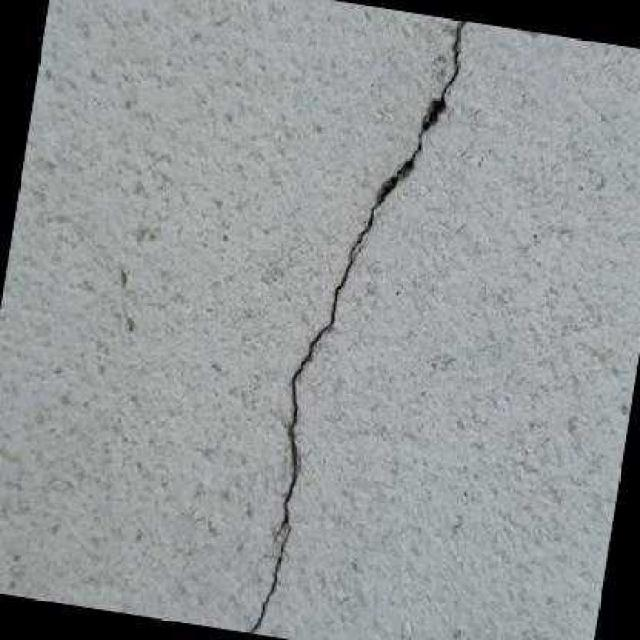D00: (241, 18, 467, 633)
